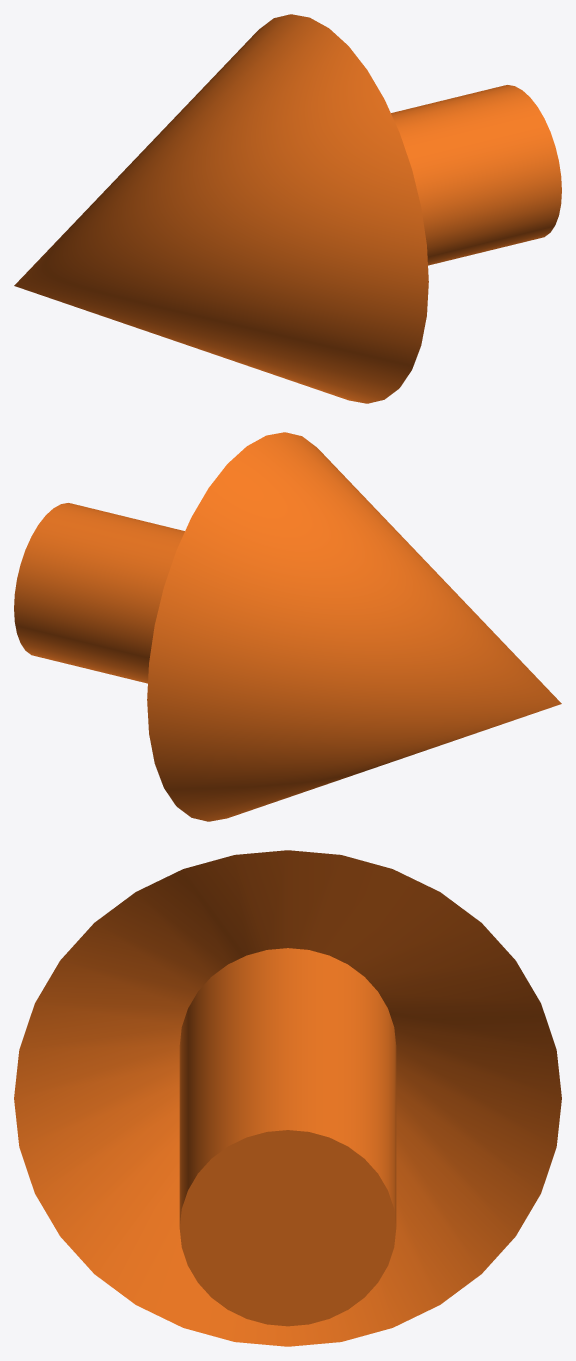
The model's file is icon_arrow.gltf.
The picture shows the model from 3 angles, top to bottom: view 1: azimuth 30°, elevation 25°; view 2: azimuth 150°, elevation 25°; view 3: azimuth 270°, elevation 25°; orthographic projection. The views are drawn at different scales.
Parts seen in each view (by area): view 1: arrow; view 2: arrow; view 3: arrow.
Part boxes in pixels (left/top/right/bottom): arrow: left=14, top=14, right=561, bottom=403; arrow: left=14, top=432, right=561, bottom=821; arrow: left=14, top=850, right=561, bottom=1346.
Size of the model in its own units: 0.1118 by 0.0759 by 0.0759.
